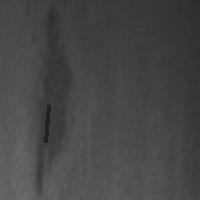inclusion: (33, 3, 76, 197), (43, 103, 50, 144)
